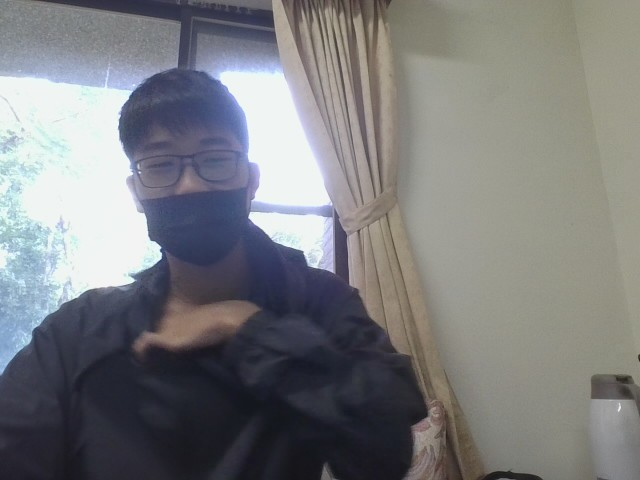No_Helmet: (114, 64, 258, 266)
person: (0, 54, 473, 479)
